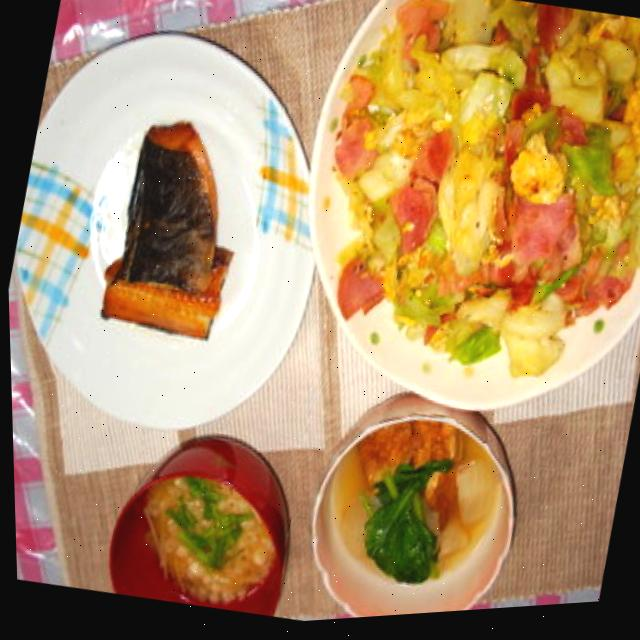蔬菜料理: (361, 0, 640, 365)
